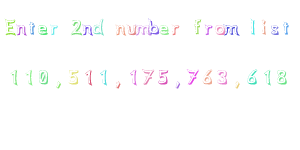,: (232, 78, 243, 94), (111, 80, 125, 92), (171, 79, 184, 91), (54, 80, 64, 91)
0: (37, 66, 52, 87)
1: (82, 62, 96, 90), (5, 66, 21, 90), (126, 65, 140, 89), (24, 65, 38, 88), (97, 66, 110, 89), (261, 67, 273, 87)
2: (68, 17, 82, 38)
3: (216, 64, 230, 88)
5: (156, 64, 170, 90), (67, 65, 80, 89)
6: (200, 65, 215, 88), (246, 66, 261, 88)
7: (141, 64, 156, 89), (184, 64, 199, 87)
8: (274, 67, 290, 86)
E: (3, 14, 16, 38)
b: (148, 14, 159, 38)
d: (91, 13, 107, 39)
e: (159, 20, 170, 40), (36, 21, 48, 38)
f: (189, 15, 203, 37)
i: (259, 16, 269, 39)
l: (246, 15, 259, 41)
m: (224, 20, 242, 41), (136, 20, 149, 39)
n: (112, 18, 126, 38), (81, 21, 93, 38), (16, 18, 26, 38)
o: (213, 19, 225, 39)
r: (169, 21, 183, 39), (48, 21, 62, 37), (203, 23, 214, 40)
s: (268, 20, 280, 40)
t: (281, 17, 293, 39), (26, 20, 38, 36)
u: (126, 20, 137, 36)
